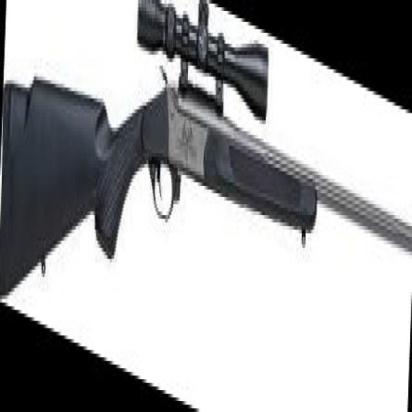Gun: (0, 0, 412, 294)
